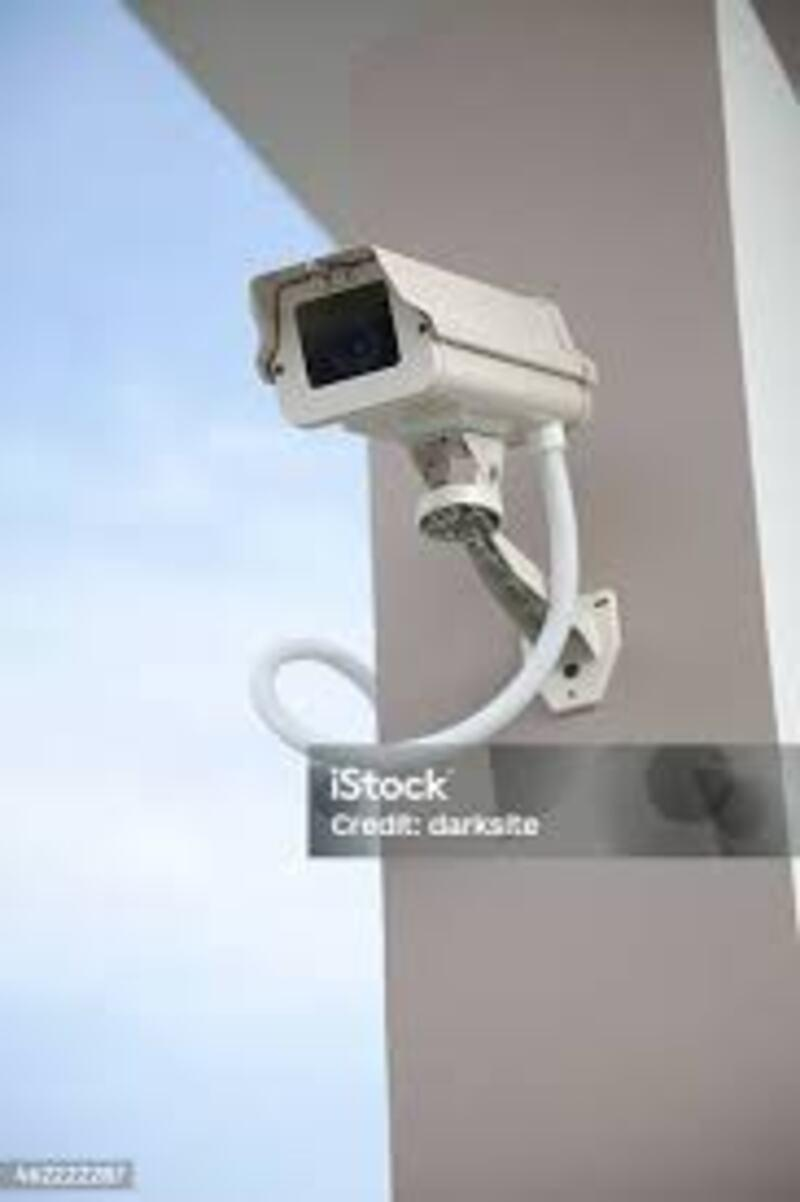box: (240, 255, 598, 445)
